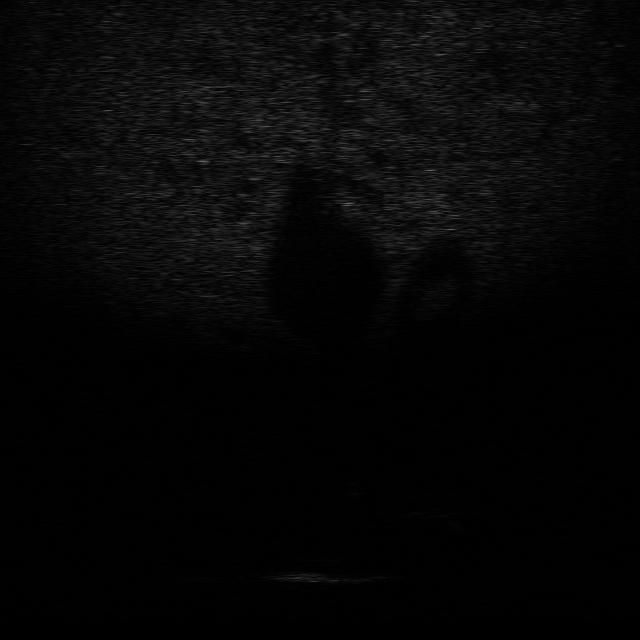ball: (326, 444, 375, 480)
metal bucket: (396, 486, 469, 521)
tyre: (331, 454, 375, 481)
